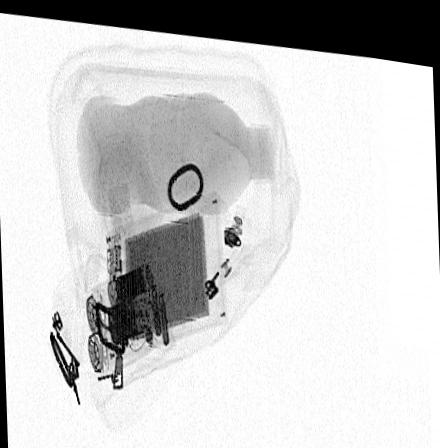Powerbank: (104, 185, 227, 363)
